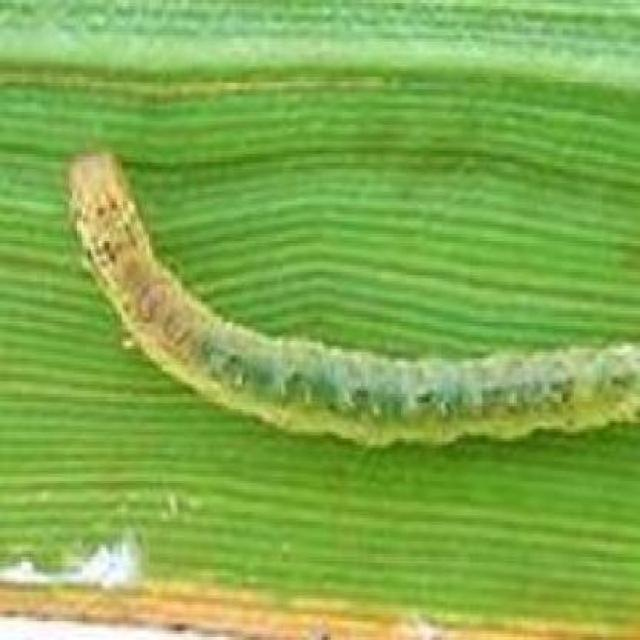leaf-folder: (51, 138, 640, 470)
